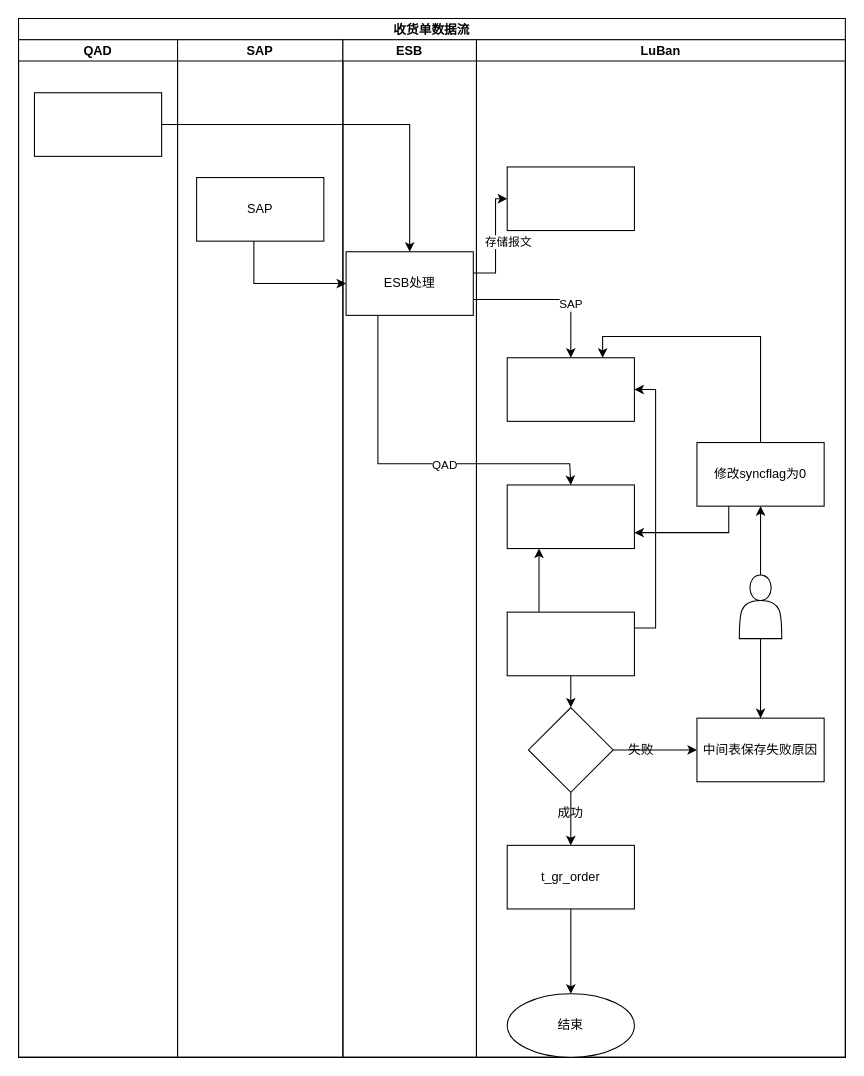
The diagram is 864 pixels wide and 1076 high, and some of its shapes have lost their labels. The shapes that lost their labels are listed below. From the top down, each one's box as (x1, y1, x2, y2) in pixels, then its label:
(33, 92, 162, 156): QAD下发
(506, 166, 634, 231): File Browser
(506, 357, 634, 421): wms_goods_recev t_if_zint_sap_09_asn
(506, 484, 634, 549): pub_interface t_if_qad_poshipper
(506, 611, 634, 676): 定时任务5m
(527, 706, 613, 792): 是否成功
